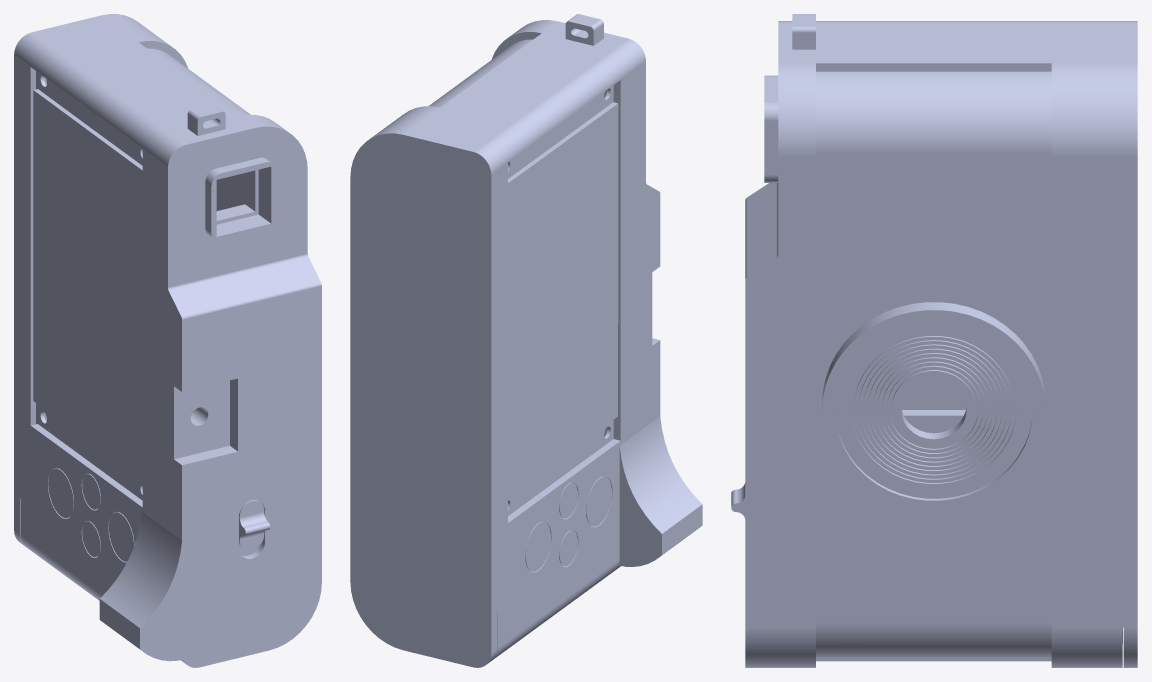
File: imagegencam-chassis.glb
3 views of the same model, side by side, from view 1: azimuth 30°, elevation 25°; view 2: azimuth 150°, elevation 25°; view 3: azimuth 270°, elevation 25° (orthographic). The views are drawn at different scales.
Parts seen in each view (by area): view 1: NAUO1, NAUO9, NAUO6, NAUO5, NAUO7, NAUO2, NAUO8, NAUO3; view 2: NAUO6, NAUO1, NAUO9, NAUO2, NAUO7, NAUO3, NAUO8; view 3: NAUO1, NAUO6, NAUO4.
Part boxes in pixels (box(x1,y1,x2,y2)): NAUO1: box(20, 26, 321, 667); NAUO9: box(33, 89, 142, 481); NAUO6: box(14, 14, 152, 545); NAUO5: box(239, 500, 270, 550); NAUO7: box(48, 468, 73, 517); NAUO2: box(109, 512, 134, 561); NAUO8: box(82, 473, 100, 509); NAUO3: box(82, 521, 100, 556); NAUO6: box(350, 121, 507, 667); NAUO1: box(384, 14, 702, 659); NAUO9: box(508, 102, 618, 495); NAUO2: box(586, 476, 611, 526); NAUO7: box(525, 521, 550, 571); NAUO3: box(559, 530, 577, 566); NAUO8: box(559, 482, 577, 518); NAUO1: box(745, 14, 1122, 667); NAUO6: box(1099, 21, 1137, 667); NAUO4: box(901, 379, 1122, 643).
Bounding box in the file's own units: 0.054 × 0.15 × 0.0862.
